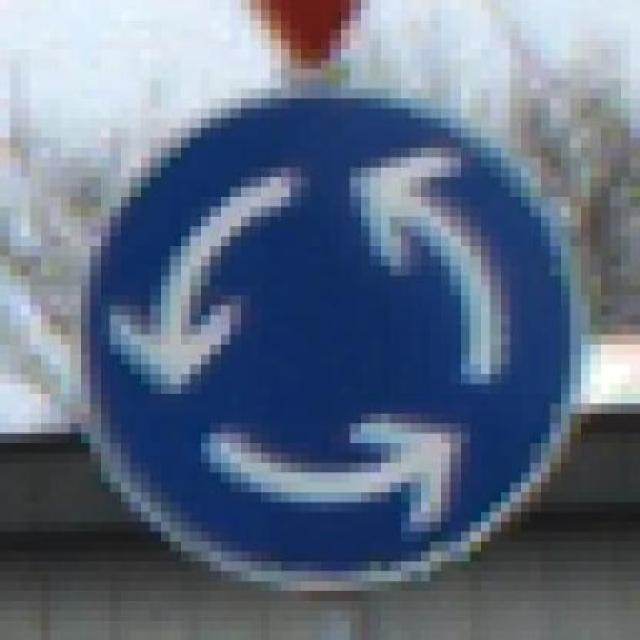Round-About: (39, 39, 610, 621)
